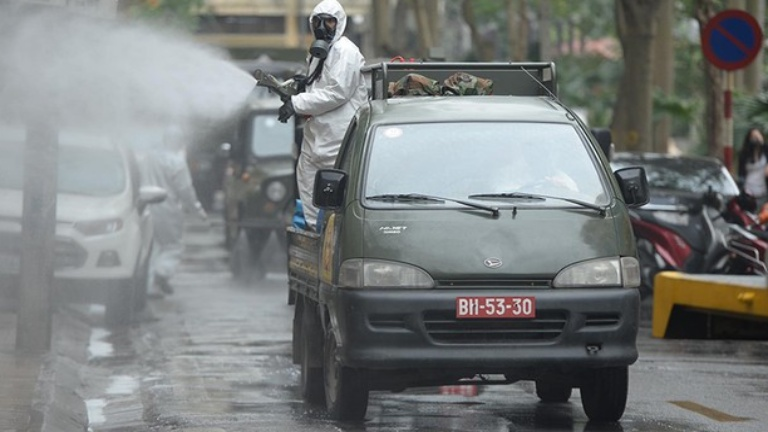plate: (454, 293, 538, 322)
